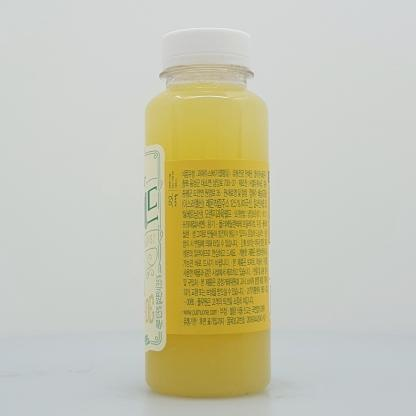----------------270ML: (144, 27, 271, 399)
